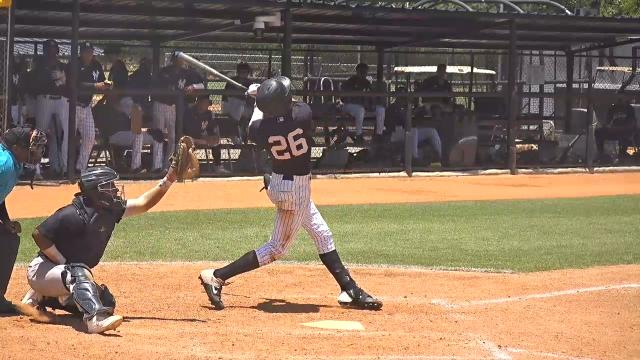bat: (173, 49, 247, 93)
